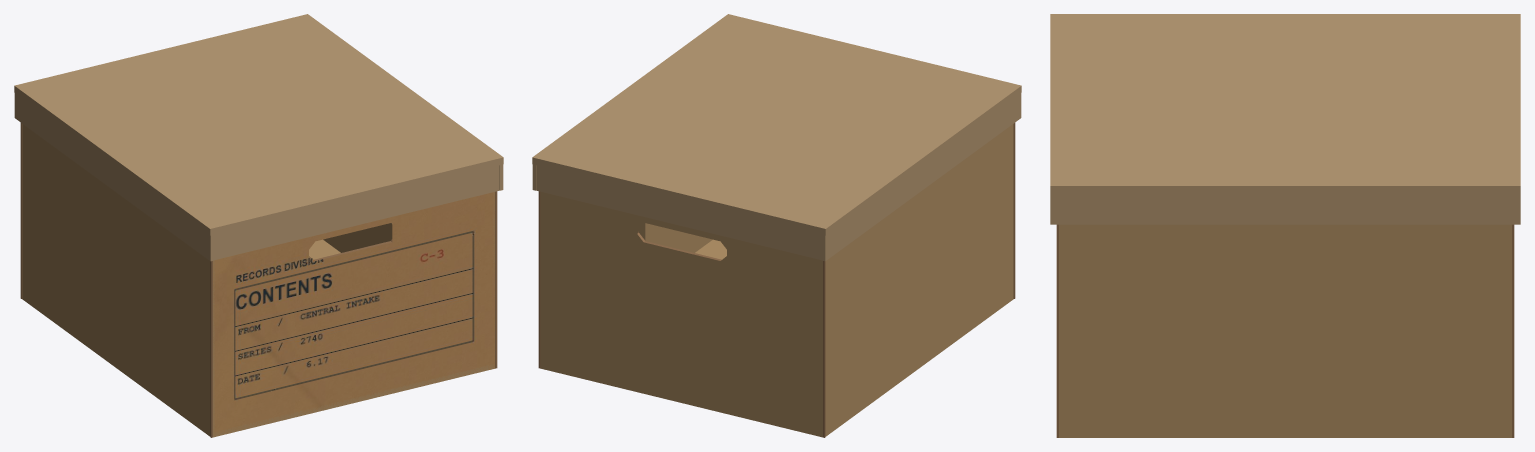
File: case_C.gltf
3 renders of one model, left to right at view 1: azimuth 30°, elevation 25°; view 2: azimuth 150°, elevation 25°; view 3: azimuth 270°, elevation 25°, orthographic. The views are drawn at different scales.
Visible parts, largest first — view 1: TransferCaseC; view 2: TransferCaseC; view 3: TransferCaseC.
Boxes of the visible parts, box(x1,y1,x2,y2) form: TransferCaseC: box(14, 14, 503, 437); TransferCaseC: box(532, 14, 1021, 437); TransferCaseC: box(1050, 14, 1520, 437).
Size of the model in its own units: 0.359 by 0.248 by 0.415.
4 materials, 1 textured.
